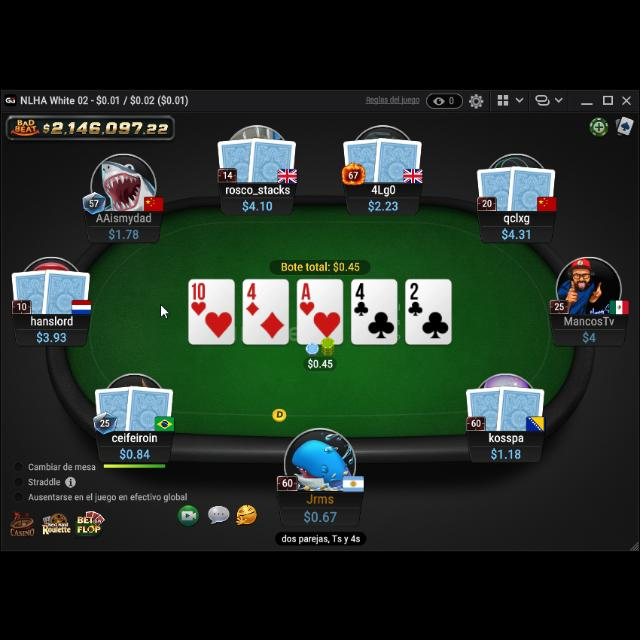2c: (408, 279, 424, 317)
4c: (352, 280, 370, 316)
4d: (244, 280, 260, 318)
Ah: (298, 279, 316, 315)
Td: (190, 279, 208, 315)
bet_text: (306, 354, 334, 368)
card_back: (42, 264, 92, 314), (507, 161, 557, 211), (496, 380, 546, 430), (248, 133, 298, 183), (373, 133, 422, 183), (124, 382, 174, 430), (342, 134, 384, 184), (217, 134, 260, 182), (10, 266, 54, 312), (476, 162, 518, 210), (465, 382, 507, 428), (94, 383, 134, 429)
dealer: (270, 404, 288, 420)
pot_text: (280, 258, 360, 270)
stack_text: (302, 504, 338, 522), (500, 226, 532, 242), (106, 226, 140, 240), (366, 198, 399, 212), (119, 445, 151, 459), (35, 327, 67, 341), (242, 196, 274, 210), (490, 446, 522, 459), (582, 329, 596, 343)
